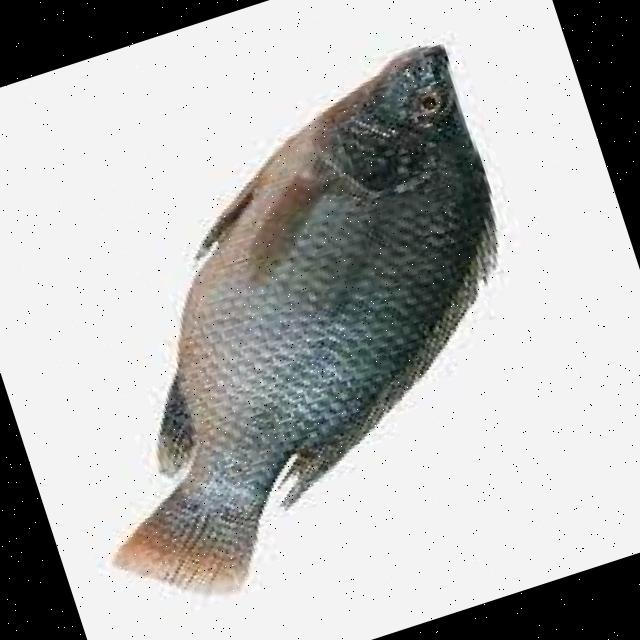ikan: (0, 36, 593, 632)
